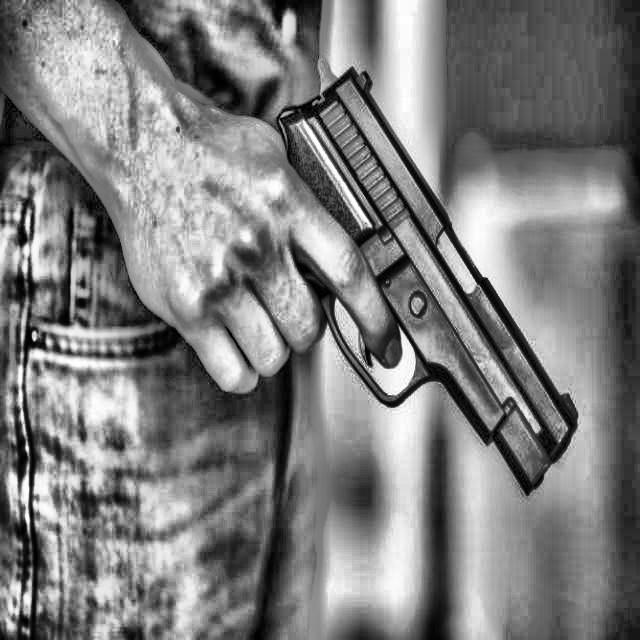pistol: (173, 50, 615, 514)
